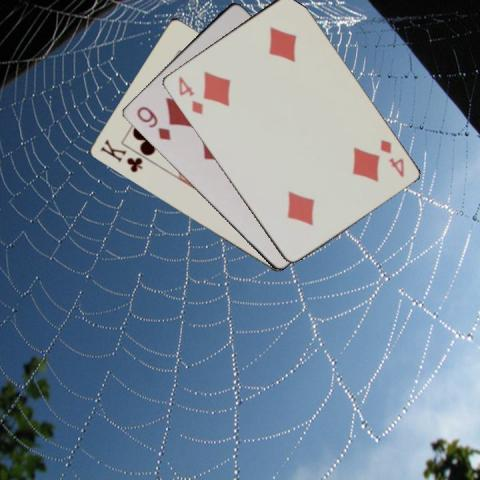4d: (175, 72, 204, 116), (377, 136, 405, 179)
9d: (133, 103, 172, 142)
Kc: (97, 136, 144, 174)
